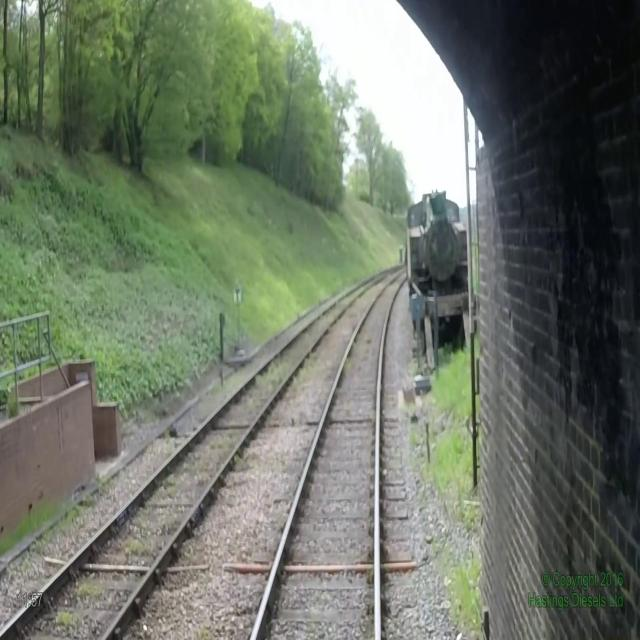rail-track: (0, 272, 388, 639), (255, 271, 406, 639)
